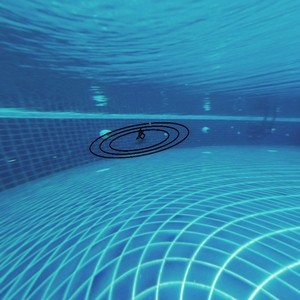circle: (84, 117, 195, 167)
submarine: (136, 129, 145, 144)
